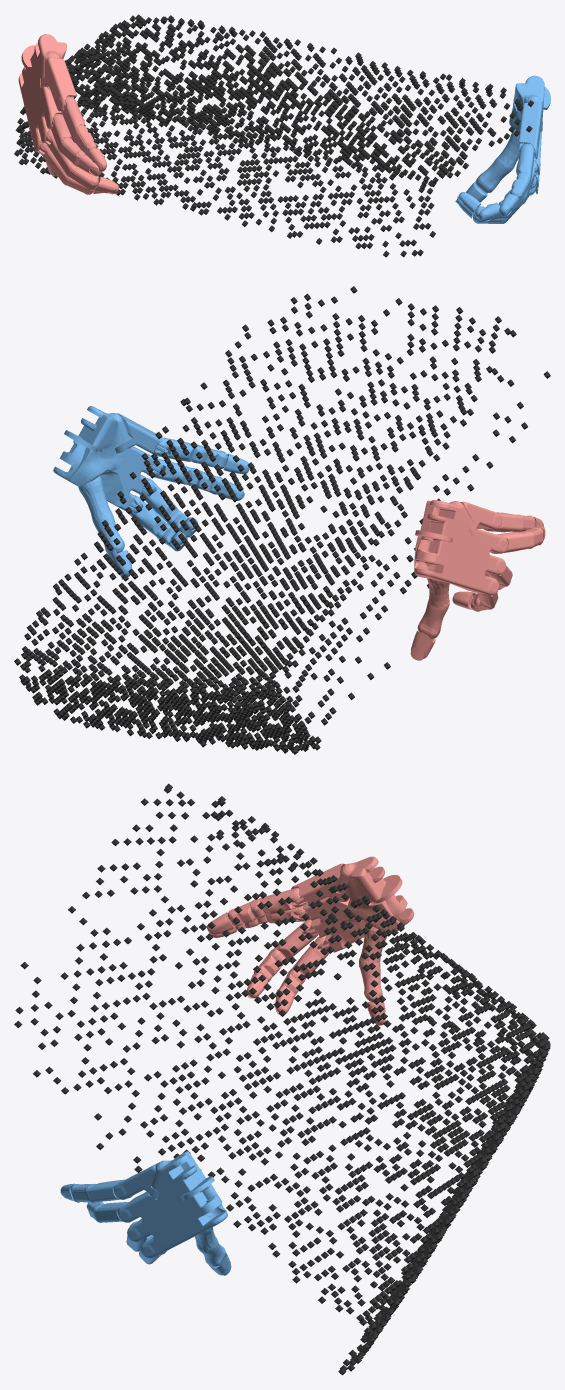
Rendered from mujoco_Frozen_Olafs_In_Trouble_PopOMatic_Game_scale036_inference.glb.
The picture shows the model from 3 angles, top to bottom: view 1: azimuth 30°, elevation 25°; view 2: azimuth 150°, elevation 25°; view 3: azimuth 270°, elevation 25°; orthographic projection. The views are drawn at different scales.
Parts seen in each view (by area): view 1: object_pointcloud, left_shadow_hand, right_shadow_hand; view 2: object_pointcloud, right_shadow_hand, left_shadow_hand; view 3: object_pointcloud, left_shadow_hand, right_shadow_hand.
Boxes of the visible parts, bbox=[...] form: object_pointcloud: bbox=[14, 14, 533, 257]; left_shadow_hand: bbox=[18, 34, 118, 194]; right_shadow_hand: bbox=[455, 75, 550, 223]; object_pointcloud: bbox=[14, 286, 550, 754]; right_shadow_hand: bbox=[53, 406, 249, 579]; left_shadow_hand: bbox=[410, 500, 545, 660]; object_pointcloud: bbox=[14, 783, 550, 1375]; left_shadow_hand: bbox=[207, 856, 414, 1025]; right_shadow_hand: bbox=[60, 1151, 231, 1275].
Bounding box in the file's own units: 0.5958 × 0.4707 × 0.5531.
